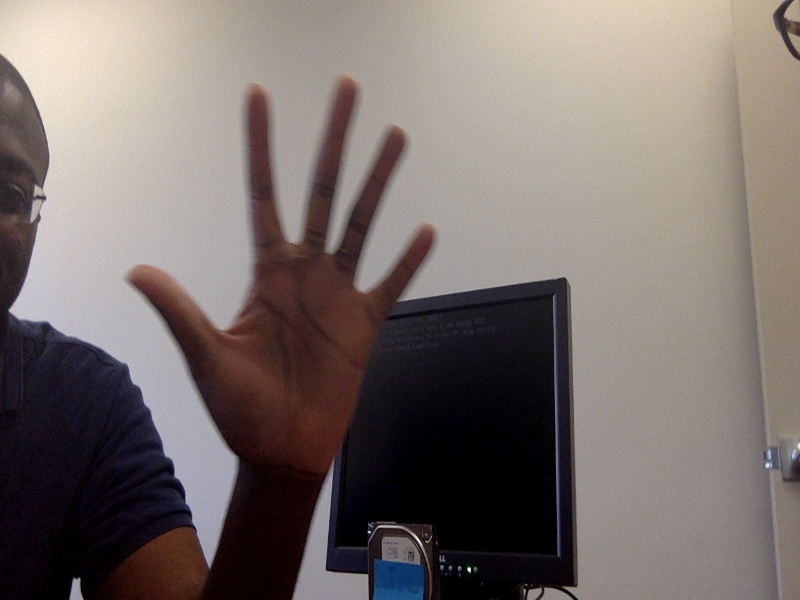5-hand: (124, 73, 438, 467)
